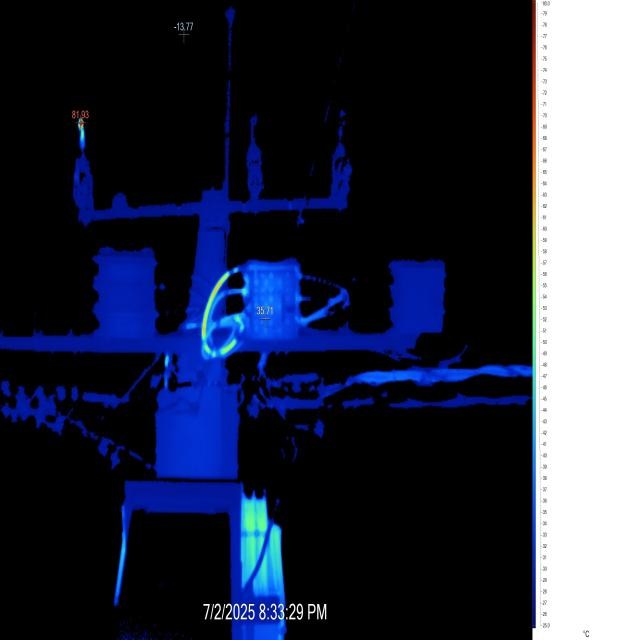Transformer: (0, 8, 529, 634)
